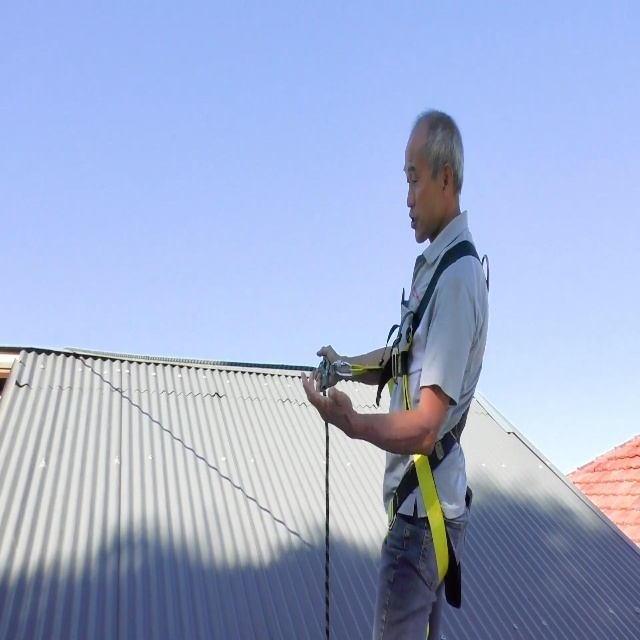Arnes_seguridad: (352, 233, 499, 604)
